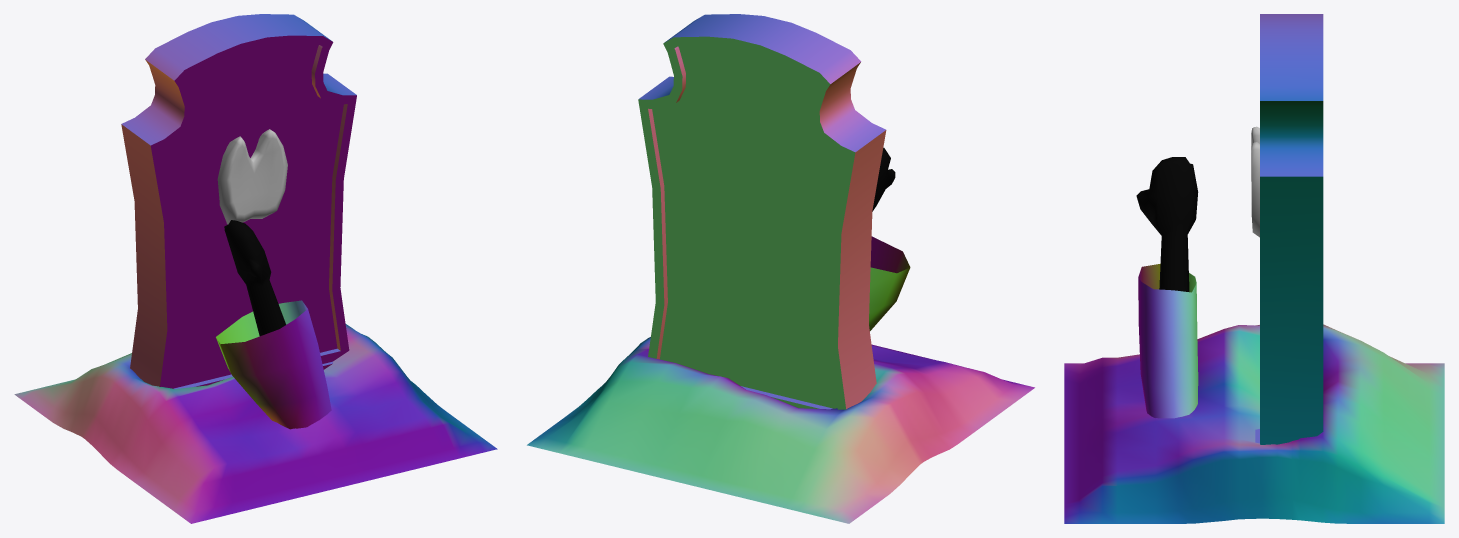
File: sheepgrave-vegan.fbx
The picture shows the model from 3 angles, left to right: view 1: azimuth 30°, elevation 25°; view 2: azimuth 150°, elevation 25°; view 3: azimuth 270°, elevation 25°; orthographic projection. The views are drawn at different scales.
Visible parts, largest first — view 1: pCube10, pPlane1, Robes, pCube3, Plane; view 2: pCube10, pPlane1, Robes, Plane; view 3: pPlane1, pCube10, Robes, Plane, pCube3.
Part boxes in pixels (x1,y1,x2,y2): pCube10: (121,14,356,388); pPlane1: (14,324,497,523); Robes: (216,300,331,429); pCube3: (217,129,287,224); Plane: (224,220,286,336); pCube10: (638,14,886,409); pPlane1: (527,337,1034,523); Robes: (869,236,910,330); Plane: (872,147,895,211); pPlane1: (1064,324,1444,523); pCube10: (1255,14,1323,444); Robes: (1138,263,1198,418); Plane: (1136,157,1198,291); pCube3: (1251,126,1259,237).
Bounding box in the file's own units: 1.88 × 2.22 × 1.88.
